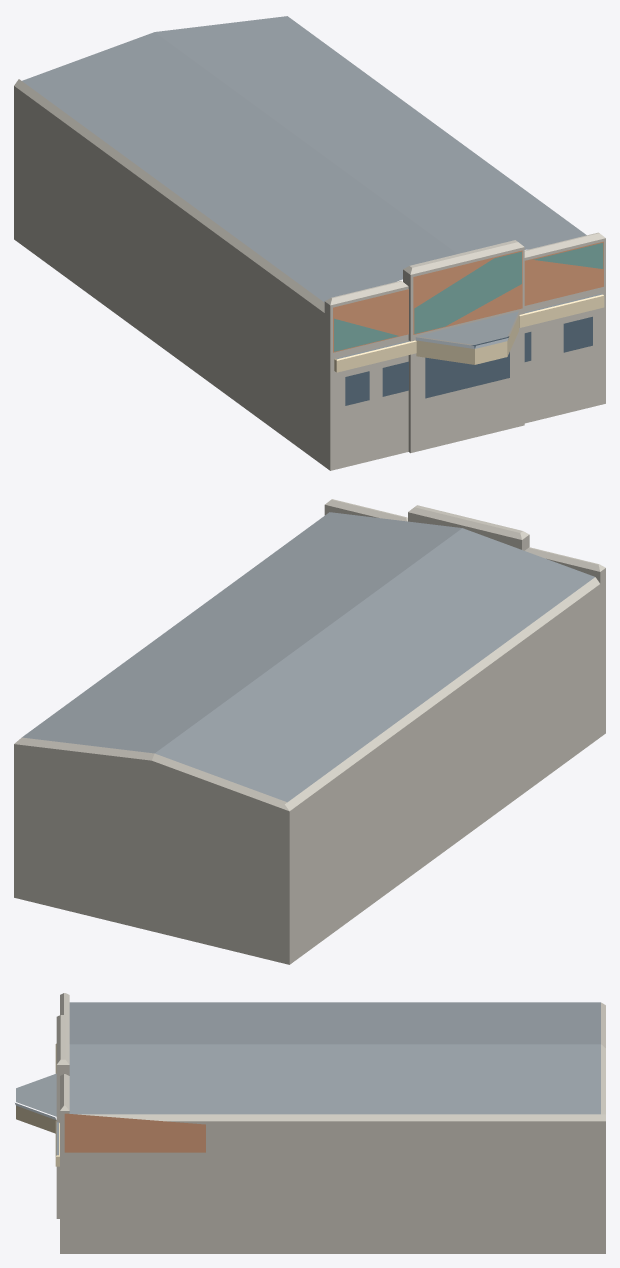
File: neighborhood-theatre.glb
3 renders of one model, top to bottom at view 1: azimuth 30°, elevation 25°; view 2: azimuth 150°, elevation 25°; view 3: azimuth 270°, elevation 25°, orthographic. The views are drawn at different scales.
Parts seen in each view (by area): view 1: Neighborhood Theatre; view 2: Neighborhood Theatre; view 3: Neighborhood Theatre.
Boxes of the visible parts, <box> form: Neighborhood Theatre: <box>14,16,605,470</box>; Neighborhood Theatre: <box>14,499,605,964</box>; Neighborhood Theatre: <box>15,993,605,1253</box>.
Bounding box in the file's own units: 16.93 × 10.7 × 36.42.
